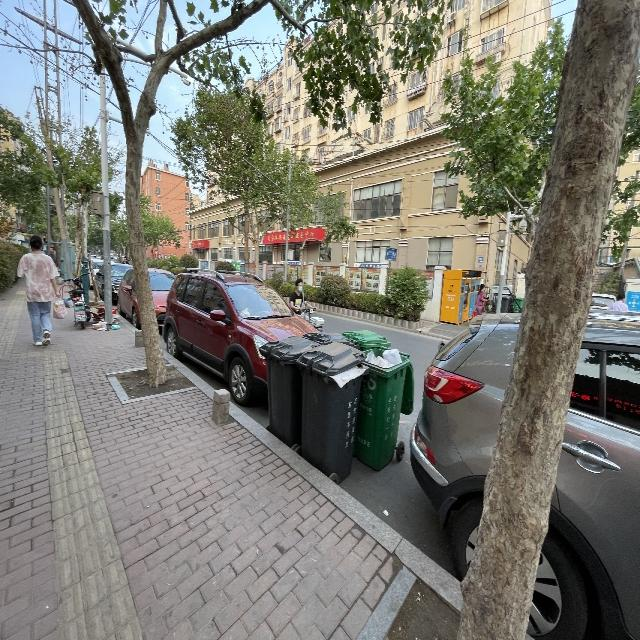garbage_bin: (259, 335, 316, 445)
overflow: (296, 341, 368, 483), (352, 346, 413, 471)
